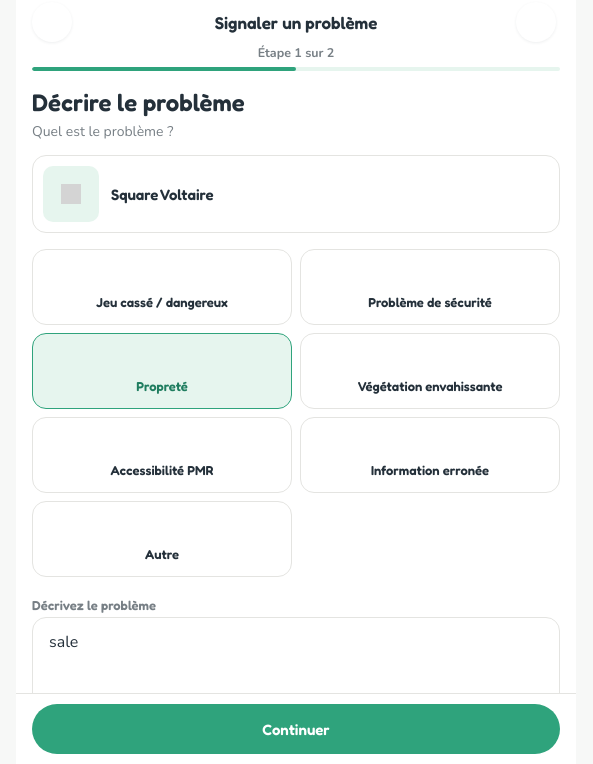
ReportProblem — parcours en 3 étapes › a v1 draft migrates: the default equipment is dropped when the category does not need it
Expected: the text box labelled "Décrivez le problème 4/200" holds "sale", x1=32 y1=617 x2=560 y2=711
Click the button "Jeu cassé / dangereux".
click(162, 287)  # box x1=32 y1=249 x2=292 y2=325
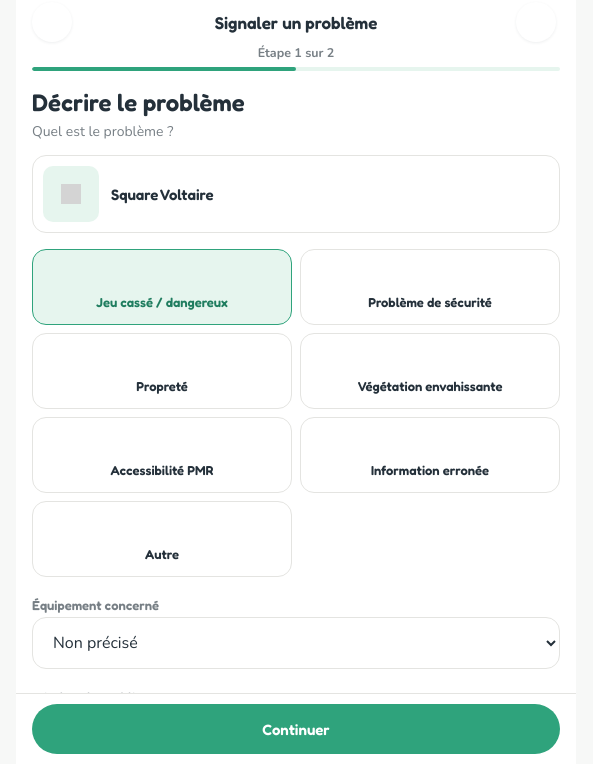
Result: the dropdown labelled "Équipement concerné" shows "Non précisé" at x1=32 y1=617 x2=560 y2=669
